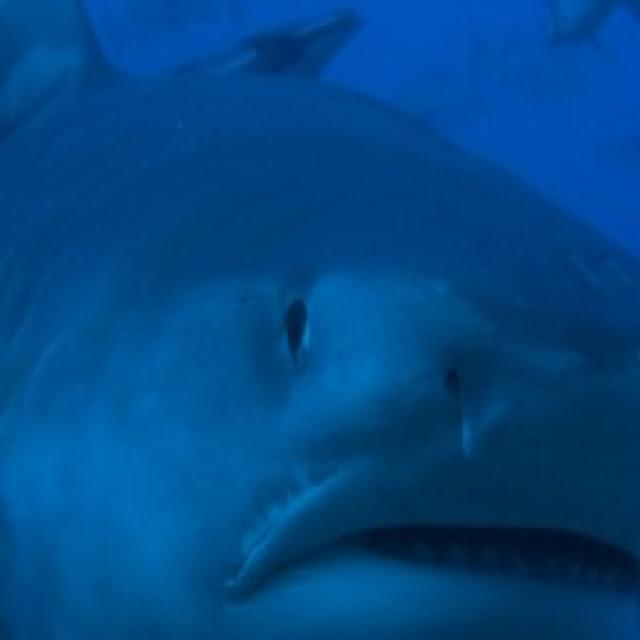Shark: (5, 1, 633, 634)
